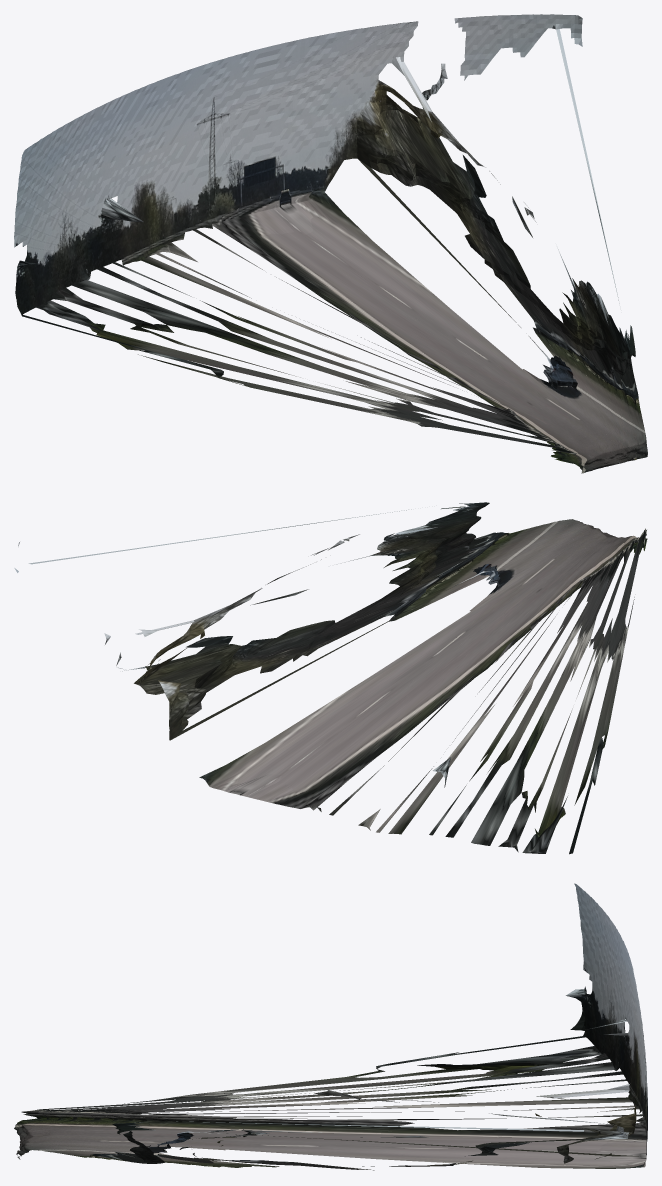
The picture shows the model from 3 angles, top to bottom: view 1: azimuth 30°, elevation 25°; view 2: azimuth 150°, elevation 25°; view 3: azimuth 270°, elevation 25°; orthographic projection. The views are drawn at different scales.
Visible parts, largest first — view 1: defaultobject; view 2: defaultobject; view 3: defaultobject.
Boxes of the visible parts, <box> form: defaultobject: <box>14,14,647,473</box>; defaultobject: <box>14,502,647,854</box>; defaultobject: <box>14,883,647,1170</box>.
Bounding box in the file's own units: 40.89 × 13.32 × 44.48.
Materials: 1 (1 with a texture image).
